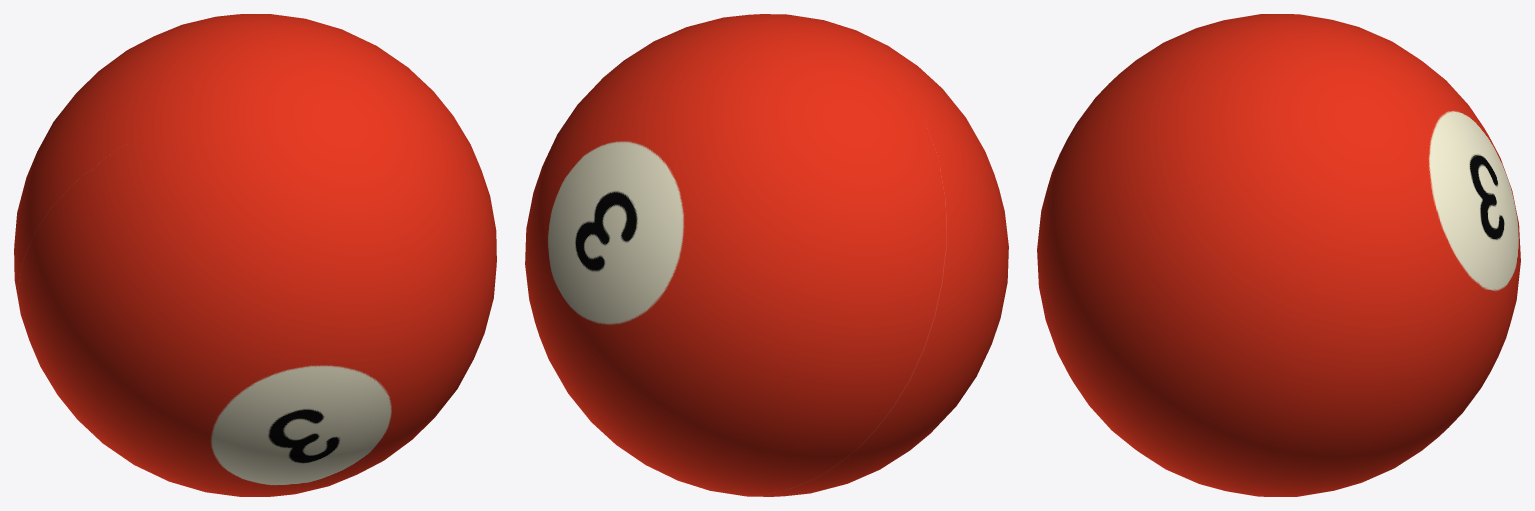
Rendered from bola6.obj.
The picture shows the model from 3 angles, left to right: view 1: azimuth 30°, elevation 25°; view 2: azimuth 150°, elevation 25°; view 3: azimuth 270°, elevation 25°; orthographic projection.
Visible parts, largest first — view 1: 3_Ball; view 2: 3_Ball; view 3: 3_Ball.
Boxes of the visible parts, box(x1,y1,x2,y2) form: 3_Ball: box(14, 14, 496, 496); 3_Ball: box(525, 14, 1008, 496); 3_Ball: box(1037, 14, 1520, 496).
Bounding box in the file's own units: 0.0509 × 0.0509 × 0.0509.
Materials: 1 (1 with a texture image).
